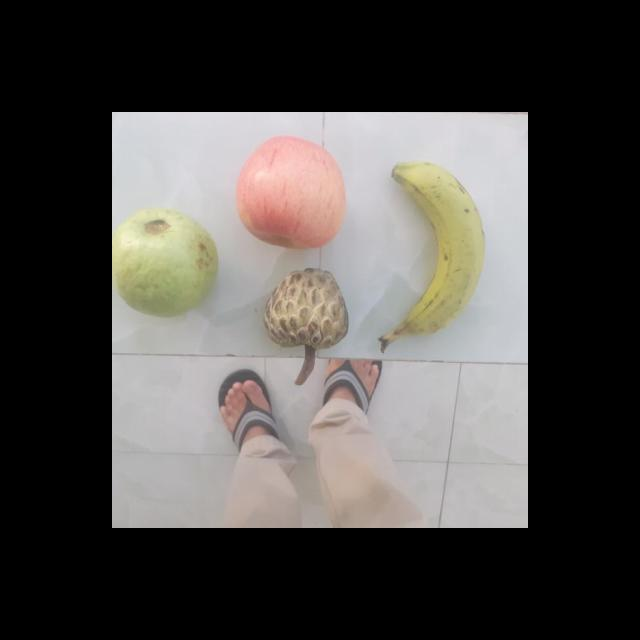Sakya fruit: (260, 262, 348, 350)
apple: (230, 137, 348, 248)
banana: (382, 160, 481, 344)
guava: (112, 208, 215, 314)
